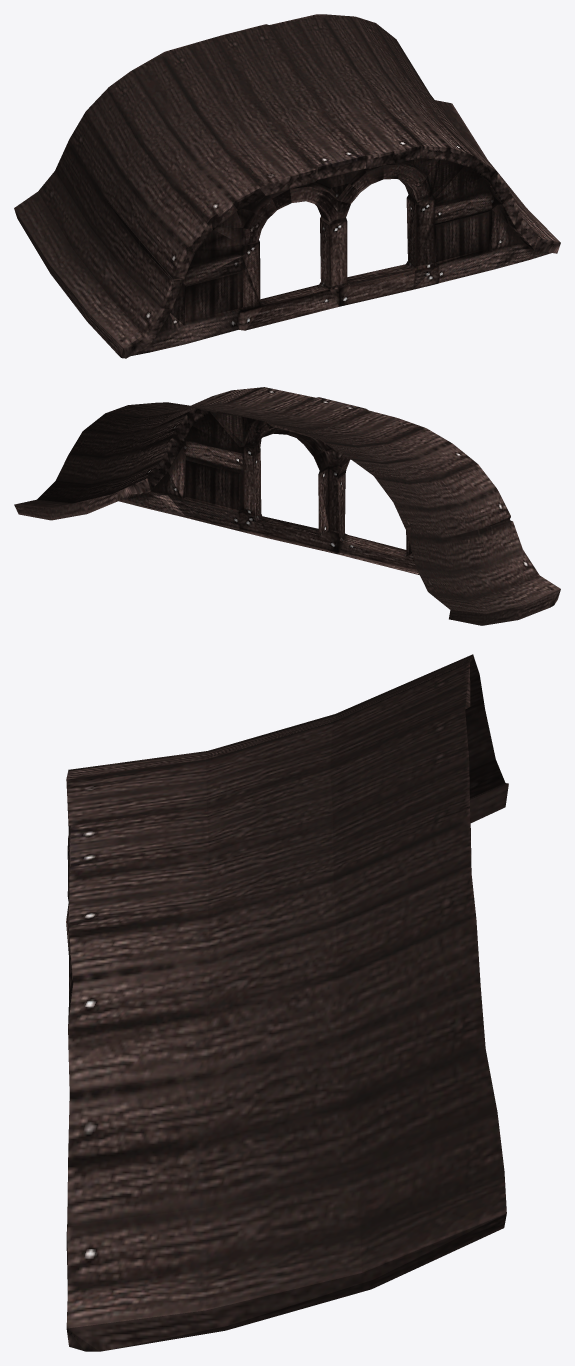
File: Roof Window Double.FBX
The picture shows the model from 3 angles, top to bottom: view 1: azimuth 30°, elevation 25°; view 2: azimuth 150°, elevation 25°; view 3: azimuth 270°, elevation 25°; orthographic projection. The views are drawn at different scales.
Visible parts, largest first — view 1: Roof Window Double; view 2: Roof Window Double; view 3: Roof Window Double.
Boxes of the visible parts, bbox=[...] form: Roof Window Double: bbox=[14, 14, 560, 358]; Roof Window Double: bbox=[14, 387, 560, 625]; Roof Window Double: bbox=[66, 654, 508, 1351].
Size of the model in its own units: 310 by 136 by 141.
Materials: 1 (1 with a texture image).
